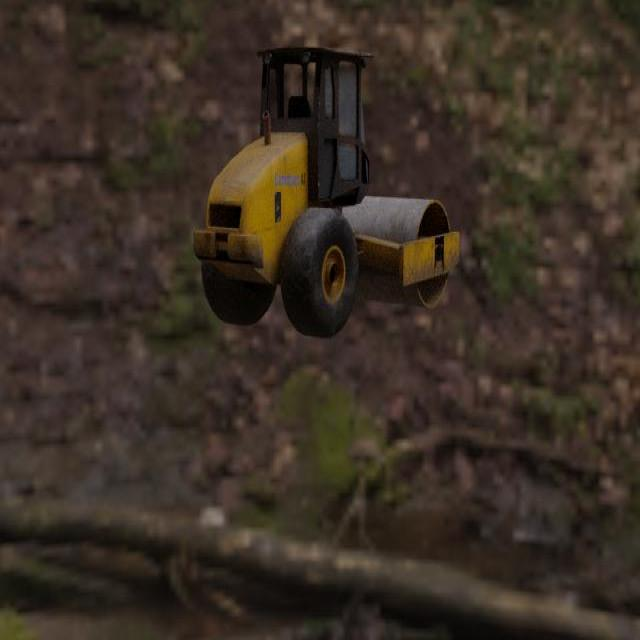Roller: (192, 45, 460, 339)
